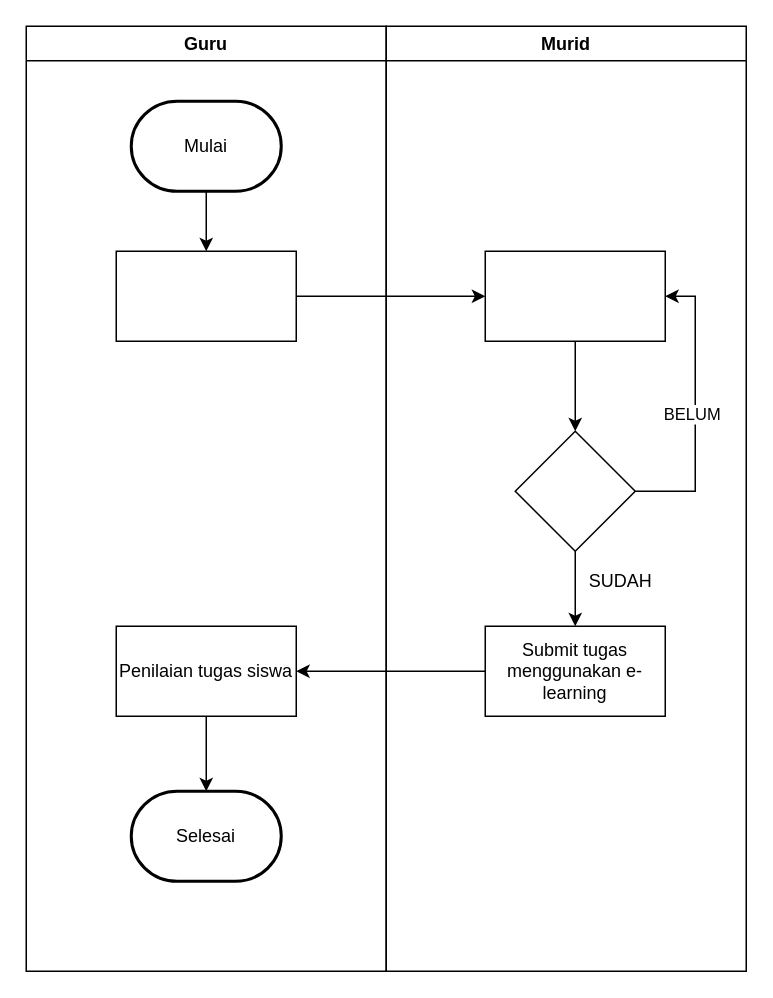
This 773x998 diagram has some shape labels left out. The centre of each missing label's shape, as x and y in pixels:
"Pemberian Tugas menggunakan e-learning" goes at (205,295).
"Pengerjaan Tugas" goes at (574,295).
"Sudah Selesai?" goes at (574,490).
